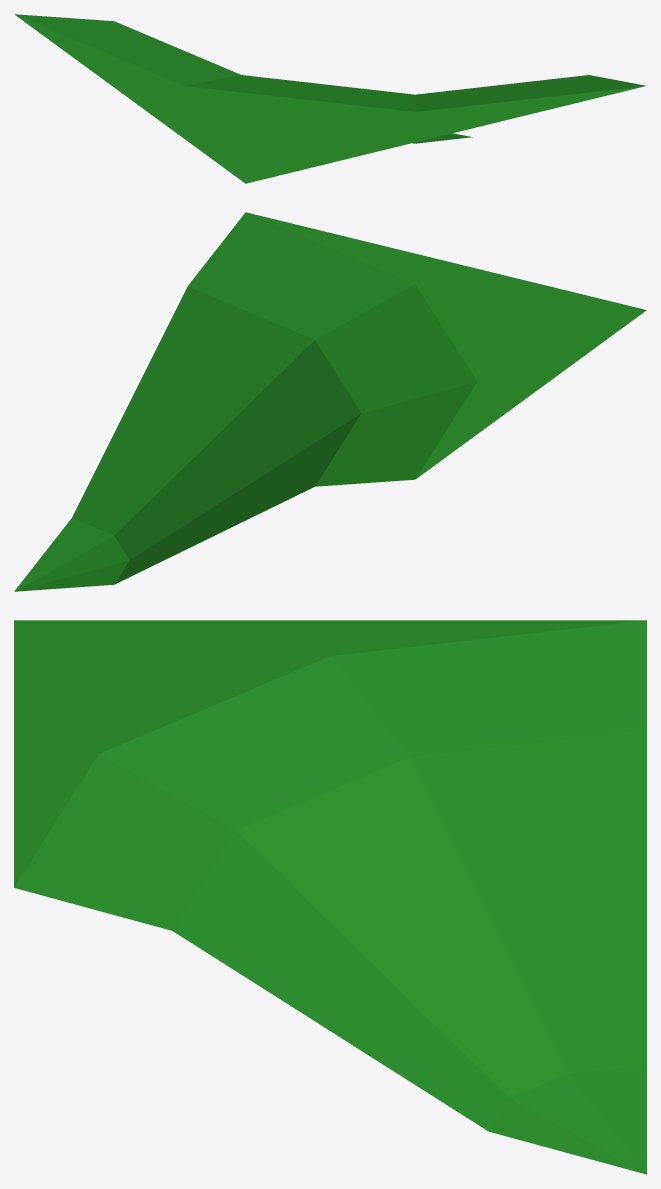
File: Hilly_Terrain_Hill_Corner_Inner_2x2.glb
3 renders of one model, top to bottom at view 1: azimuth 30°, elevation 25°; view 2: azimuth 150°, elevation 25°; view 3: azimuth 270°, elevation 25°, orthographic. The views are drawn at different scales.
Visible parts, largest first — view 1: Hilly_Terrain_Hill_Corner_Inner_2x2; view 2: Hilly_Terrain_Hill_Corner_Inner_2x2; view 3: Hilly_Terrain_Hill_Corner_Inner_2x2.
Part boxes in pixels (x1,y1,x2,y2): Hilly_Terrain_Hill_Corner_Inner_2x2: (14, 14, 646, 183); Hilly_Terrain_Hill_Corner_Inner_2x2: (14, 212, 646, 591); Hilly_Terrain_Hill_Corner_Inner_2x2: (14, 620, 646, 1174).
Size of the model in its own units: 2 by 1 by 2.
